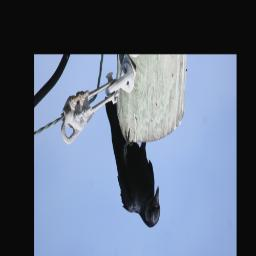Crow: (105, 94, 161, 228)
